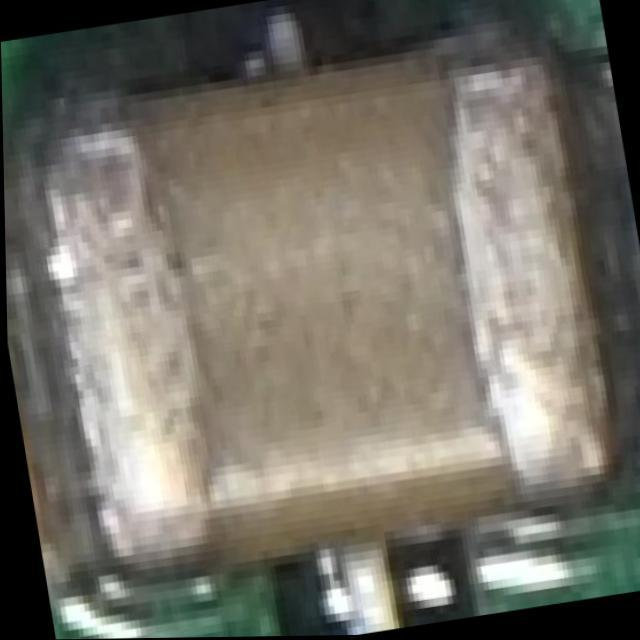Capacitor: (17, 9, 628, 591)
